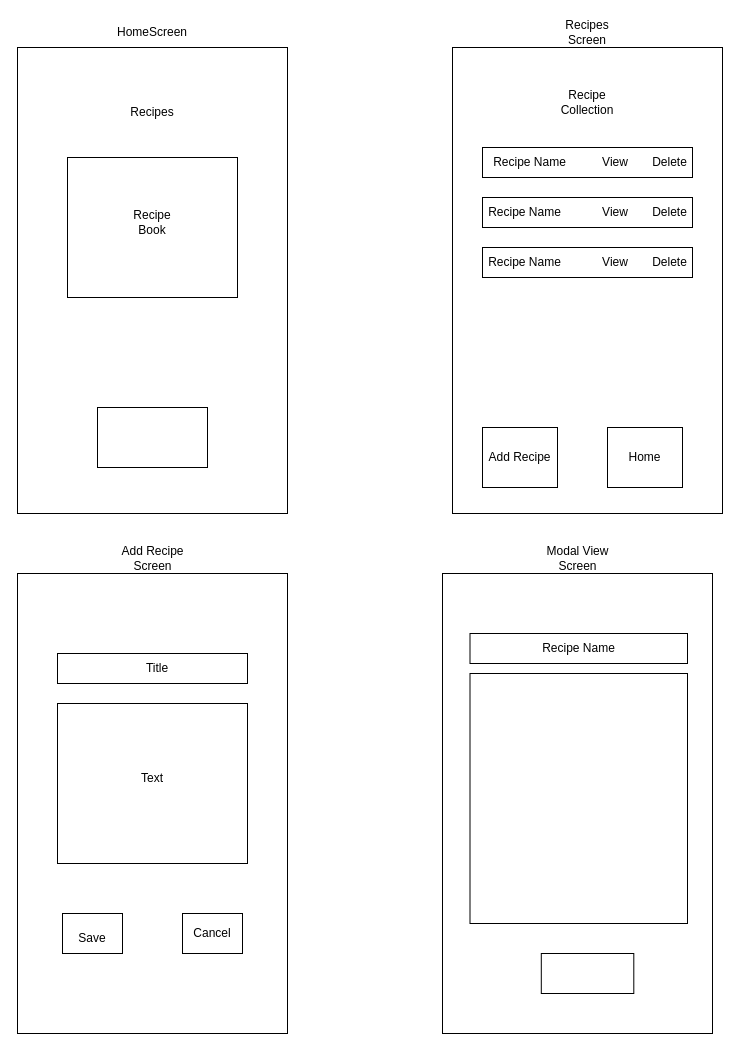
Some shapes in this 740 by 1051 pixel diagram are drawn without their labels. Here are the shapes that lost their labels. From the top down, the centre of each, then its label:
At (152,437): "Go to Recipes".
At (578,798): "List of ingrediants".
At (587,973): "Return to Recipes".
